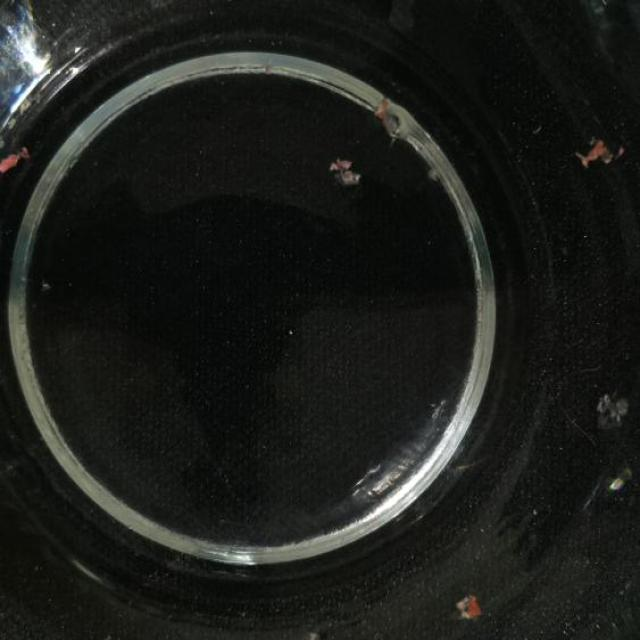fiber: (595, 378, 638, 432), (376, 94, 418, 146), (576, 134, 630, 167), (325, 151, 362, 188), (0, 142, 36, 175), (455, 588, 483, 621), (609, 471, 637, 502)
